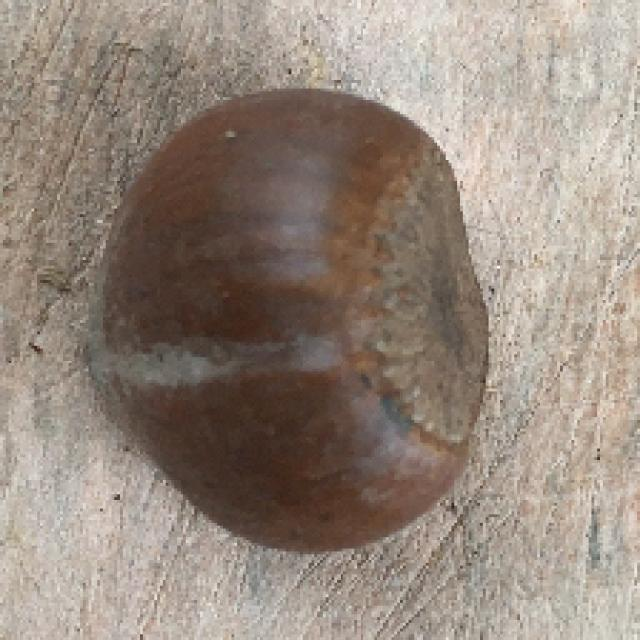damagedHazelnut: (78, 85, 493, 547)
